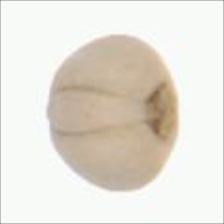L5: (45, 84, 147, 139), (147, 78, 181, 144)
L6: (45, 32, 180, 195)
